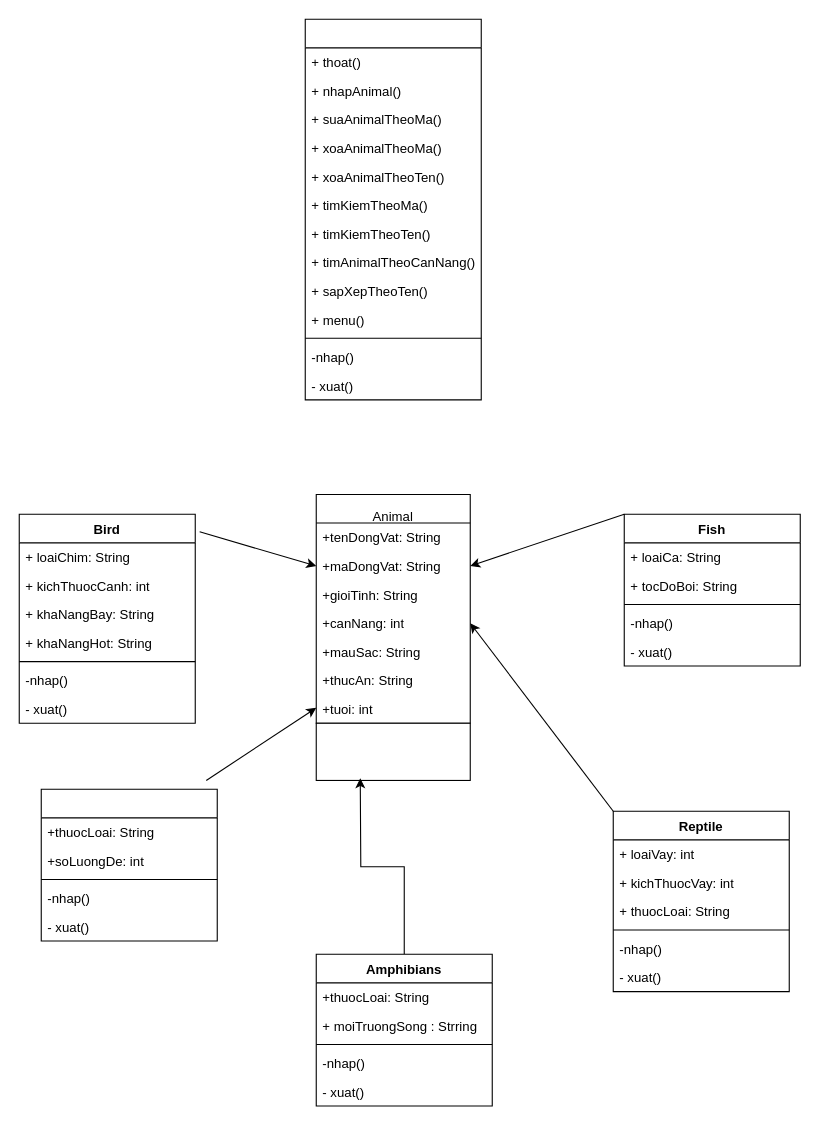
This 820x1129 diagram has some shape labels left out. Each missing label, with the box of its shape:
-nhap() -xuat(): (315, 722, 470, 780)
Mammal: (40, 788, 217, 941)
ZOO: (304, 18, 481, 400)
